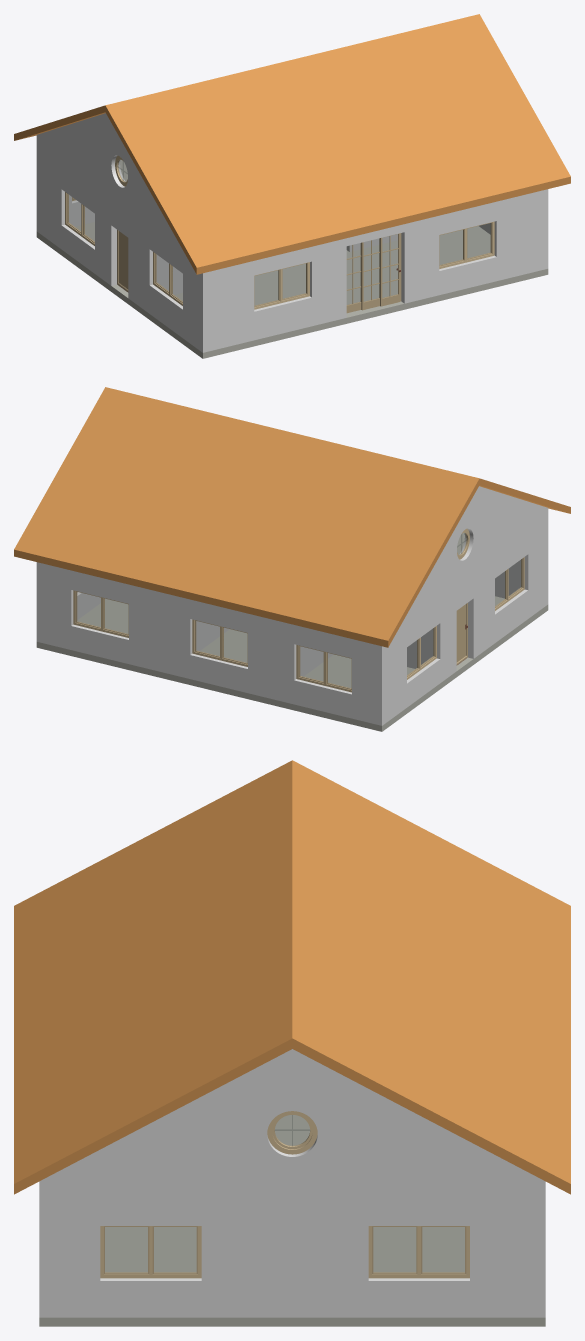
File: AC20-FZK-Haus.glb
3 renders of one model, top to bottom at view 1: azimuth 30°, elevation 25°; view 2: azimuth 150°, elevation 25°; view 3: azimuth 270°, elevation 25°, orthographic. The views are drawn at different scales.
Visible parts, largest first — view 1: product-92ede797-79f6-4b19-897f-a2c98ca59097-body, product-463575f4-f696-42de-bde9-918a6fe7650a-body, product-f5661f93-e3d1-49ce-8861-886e8d4ef048-body, product-73651c69-1e68-4ccd-9d97-3b16a923e18b-body, product-2ec5748a-7cb6-4b3f-92fc-fb015a7d1d9e-body, product-56feaede-d610-4fb3-aa03-64613ae87785-body, product-cb3e6f2f-3368-4711-968a-c9b2a81695f9-body, product-85c53ece-ce2a-4855-b353-5ee59e7d8030-body, product-0b05be8e-f7d6-4332-958e-1576ff7f4ac5-body, product-76d4a4bf-6c47-48b2-b561-71747079c39d-body, product-073b1976-d302-4c1c-a68c-26cf0bea970d-body, product-ad75bd26-aeda-47c8-b03c-ada184182740-body (+2 smaller); view 2: product-073b1976-d302-4c1c-a68c-26cf0bea970d-body, product-65f697f6-4f4c-4836-8159-e2e335d3cbfd-body, product-f5661f93-e3d1-49ce-8861-886e8d4ef048-body, product-2ec5748a-7cb6-4b3f-92fc-fb015a7d1d9e-body, product-73651c69-1e68-4ccd-9d97-3b16a923e18b-body, product-5d292132-e148-4487-b12f-2cd8d2e05d16-body, product-4db22d2b-a7d4-49ef-be13-9df47a84c5e4-body, product-9a27a1f2-6e16-4210-9b4b-ca53967f4be3-body, product-76d4a4bf-6c47-48b2-b561-71747079c39d-body, product-0b05be8e-f7d6-4332-958e-1576ff7f4ac5-body, product-92ede797-79f6-4b19-897f-a2c98ca59097-body, product-ad75bd26-aeda-47c8-b03c-ada184182740-body (+4 smaller); view 3: product-073b1976-d302-4c1c-a68c-26cf0bea970d-body, product-92ede797-79f6-4b19-897f-a2c98ca59097-body, product-85a76959-f2e0-457f-9e21-4bff17528c54-body, product-df324d5e-52a4-4197-8572-08263dee8193-body, product-73651c69-1e68-4ccd-9d97-3b16a923e18b-body, product-8e6abfad-ad90-4bf8-af8a-5b8713985380-body, product-4391c887-27d9-48a5-9111-2b339303dfa8-body, product-8a3303cf-6ab7-4163-8a40-ec489b7ab270-body, product-9b42f6ae-13b4-441d-b454-243f6677d795-body.
Part boxes in pixels (x1,y1,x2,y2): product-92ede797-79f6-4b19-897f-a2c98ca59097-body: (105,14,570,274); product-463575f4-f696-42de-bde9-918a6fe7650a-body: (203,189,548,352); product-f5661f93-e3d1-49ce-8861-886e8d4ef048-body: (36,150,202,352); product-73651c69-1e68-4ccd-9d97-3b16a923e18b-body: (36,222,548,358); product-2ec5748a-7cb6-4b3f-92fc-fb015a7d1d9e-body: (36,113,188,260); product-56feaede-d610-4fb3-aa03-64613ae87785-body: (346,233,401,313); product-cb3e6f2f-3368-4711-968a-c9b2a81695f9-body: (439,221,494,268); product-85c53ece-ce2a-4855-b353-5ee59e7d8030-body: (254,262,309,309); product-0b05be8e-f7d6-4332-958e-1576ff7f4ac5-body: (153,252,182,305); product-76d4a4bf-6c47-48b2-b561-71747079c39d-body: (65,192,94,245); product-073b1976-d302-4c1c-a68c-26cf0bea970d-body: (14,105,105,140); product-ad75bd26-aeda-47c8-b03c-ada184182740-body: (117,230,128,292); product-073b1976-d302-4c1c-a68c-26cf0bea970d-body: (14,387,479,647); product-65f697f6-4f4c-4836-8159-e2e335d3cbfd-body: (36,562,381,725); product-f5661f93-e3d1-49ce-8861-886e8d4ef048-body: (382,523,548,725); product-2ec5748a-7cb6-4b3f-92fc-fb015a7d1d9e-body: (396,486,548,633); product-73651c69-1e68-4ccd-9d97-3b16a923e18b-body: (36,596,548,731); product-5d292132-e148-4487-b12f-2cd8d2e05d16-body: (296,645,351,692); product-4db22d2b-a7d4-49ef-be13-9df47a84c5e4-body: (73,590,128,637); product-9a27a1f2-6e16-4210-9b4b-ca53967f4be3-body: (192,619,247,666); product-76d4a4bf-6c47-48b2-b561-71747079c39d-body: (407,626,436,679); product-0b05be8e-f7d6-4332-958e-1576ff7f4ac5-body: (495,557,524,610); product-92ede797-79f6-4b19-897f-a2c98ca59097-body: (479,478,570,513); product-ad75bd26-aeda-47c8-b03c-ada184182740-body: (456,603,467,665); product-073b1976-d302-4c1c-a68c-26cf0bea970d-body: (292,760,570,1194); product-92ede797-79f6-4b19-897f-a2c98ca59097-body: (14,760,292,1194); product-85a76959-f2e0-457f-9e21-4bff17528c54-body: (39,1193,545,1317); product-df324d5e-52a4-4197-8572-08263dee8193-body: (39,1049,545,1193); product-73651c69-1e68-4ccd-9d97-3b16a923e18b-body: (39,1227,545,1326); product-8e6abfad-ad90-4bf8-af8a-5b8713985380-body: (100,1226,201,1278); product-4391c887-27d9-48a5-9111-2b339303dfa8-body: (368,1226,469,1278); product-8a3303cf-6ab7-4163-8a40-ec489b7ab270-body: (267,1111,317,1154); product-9b42f6ae-13b4-441d-b454-243f6677d795-body: (275,1115,309,1145).
Bounding box in the file's own units: 13 × 6.52 × 11.
